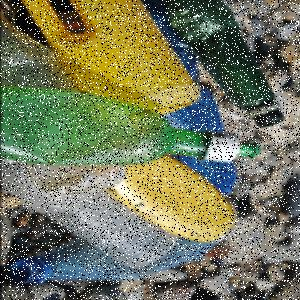Plastic-bottle: (2, 87, 262, 167), (10, 240, 234, 286)
